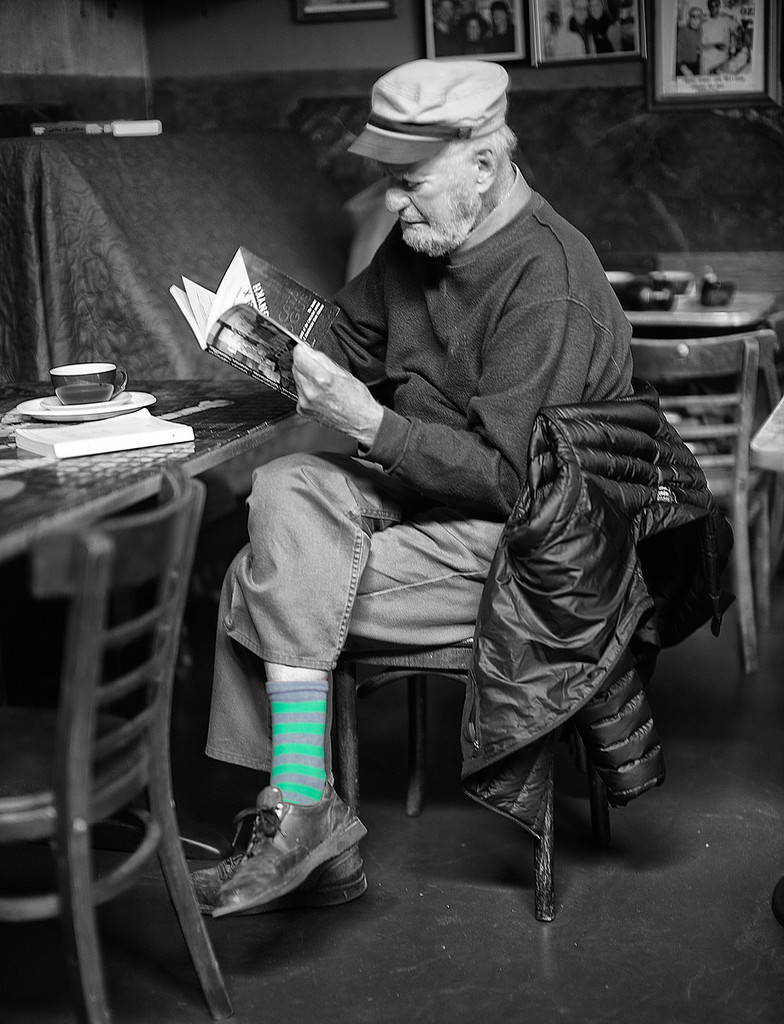hats: (346, 58, 521, 260)
